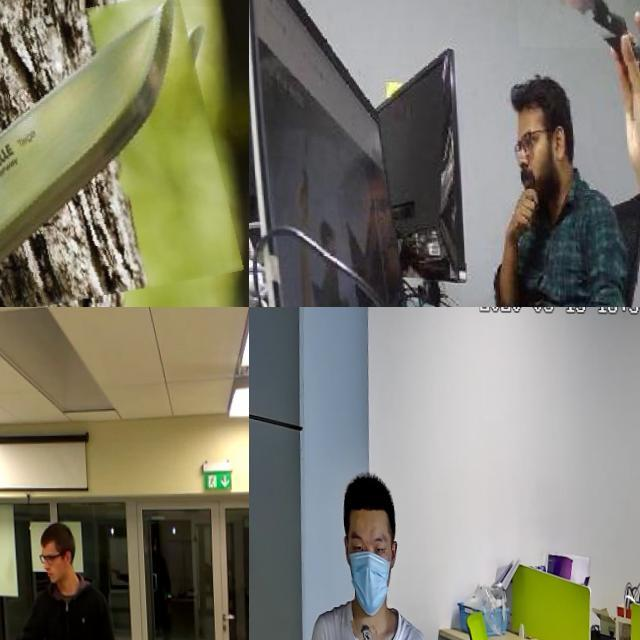-: (0, 0, 230, 307), (513, 0, 622, 51)
gun-knife-thesis - v11 Yolov5 augmented: (350, 615, 385, 640), (0, 620, 19, 640)
